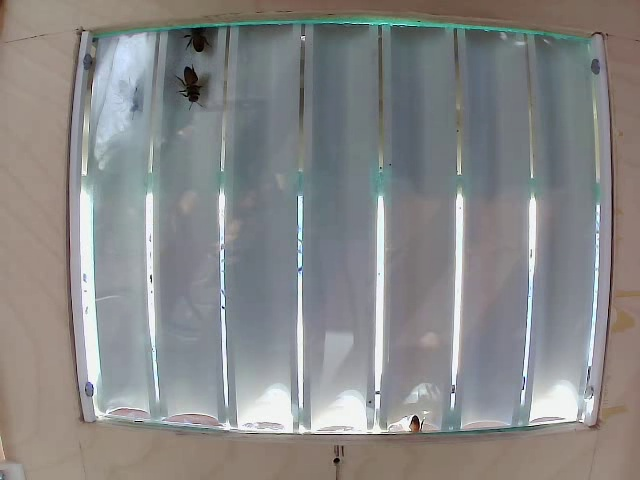bee: (174, 55, 216, 115)
